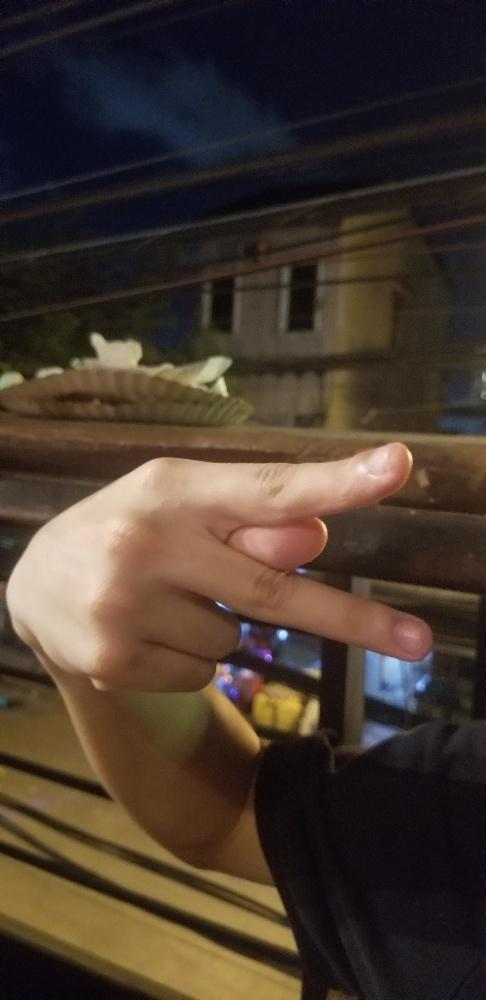k: (4, 435, 440, 698)
